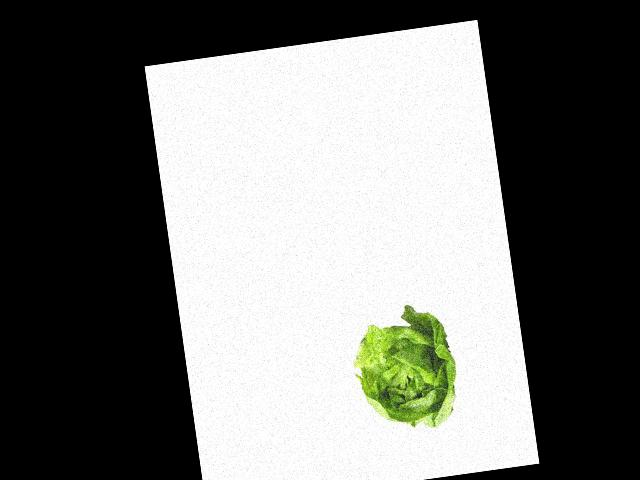lettuce: (349, 311, 453, 431)
